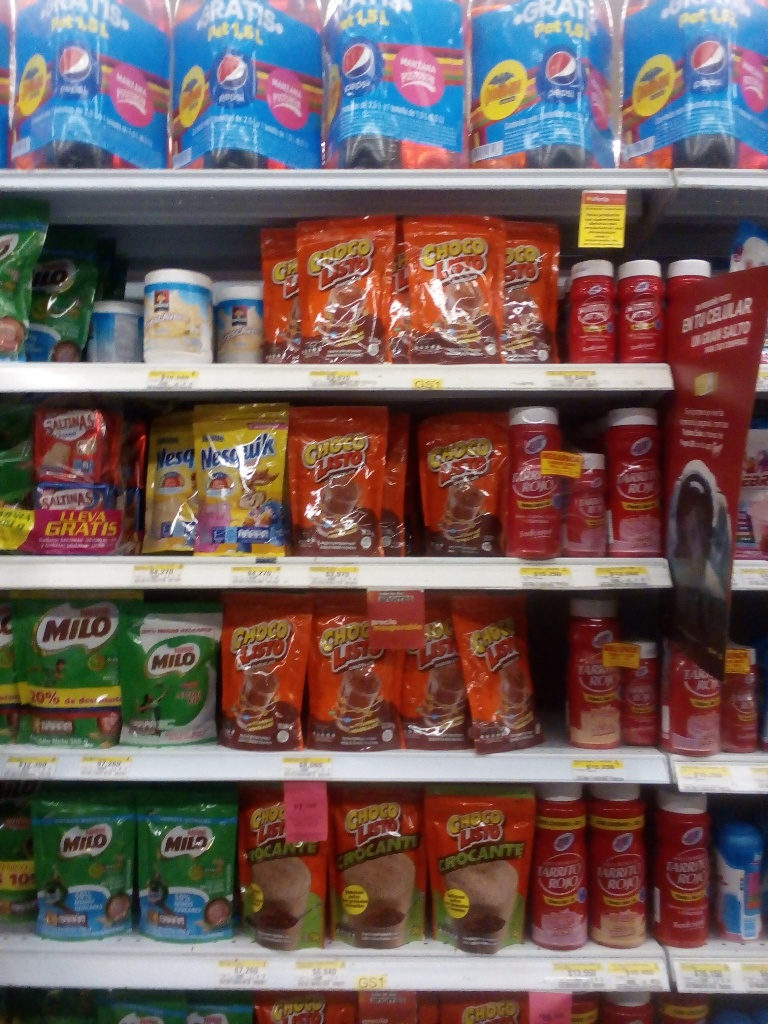COL0170102DYP25000: (243, 791, 336, 951)
COL0170103DYP20000: (298, 222, 395, 369)
COL0170203DYP50000: (9, 585, 147, 751)
COL0170205DYP20000: (118, 603, 222, 751)
COL0170305DYP20000: (192, 406, 287, 564)
COL0170306DYP20000: (136, 417, 200, 555)
